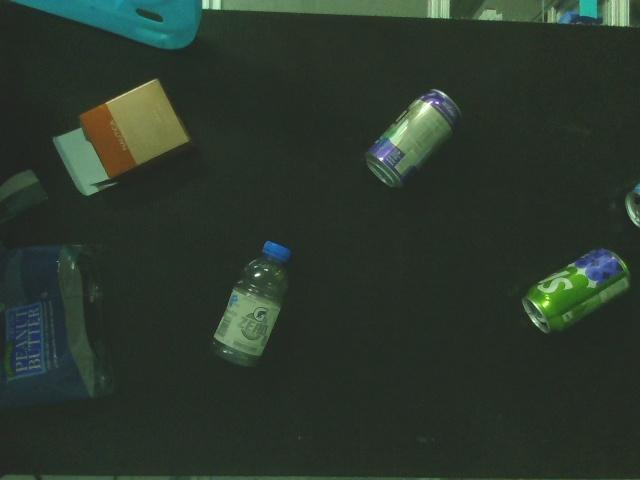cardboard: (50, 75, 194, 202), (0, 166, 49, 225)
metal: (362, 84, 468, 192), (520, 244, 634, 337), (624, 172, 640, 231)
plastic: (0, 242, 119, 408), (210, 240, 296, 370)
